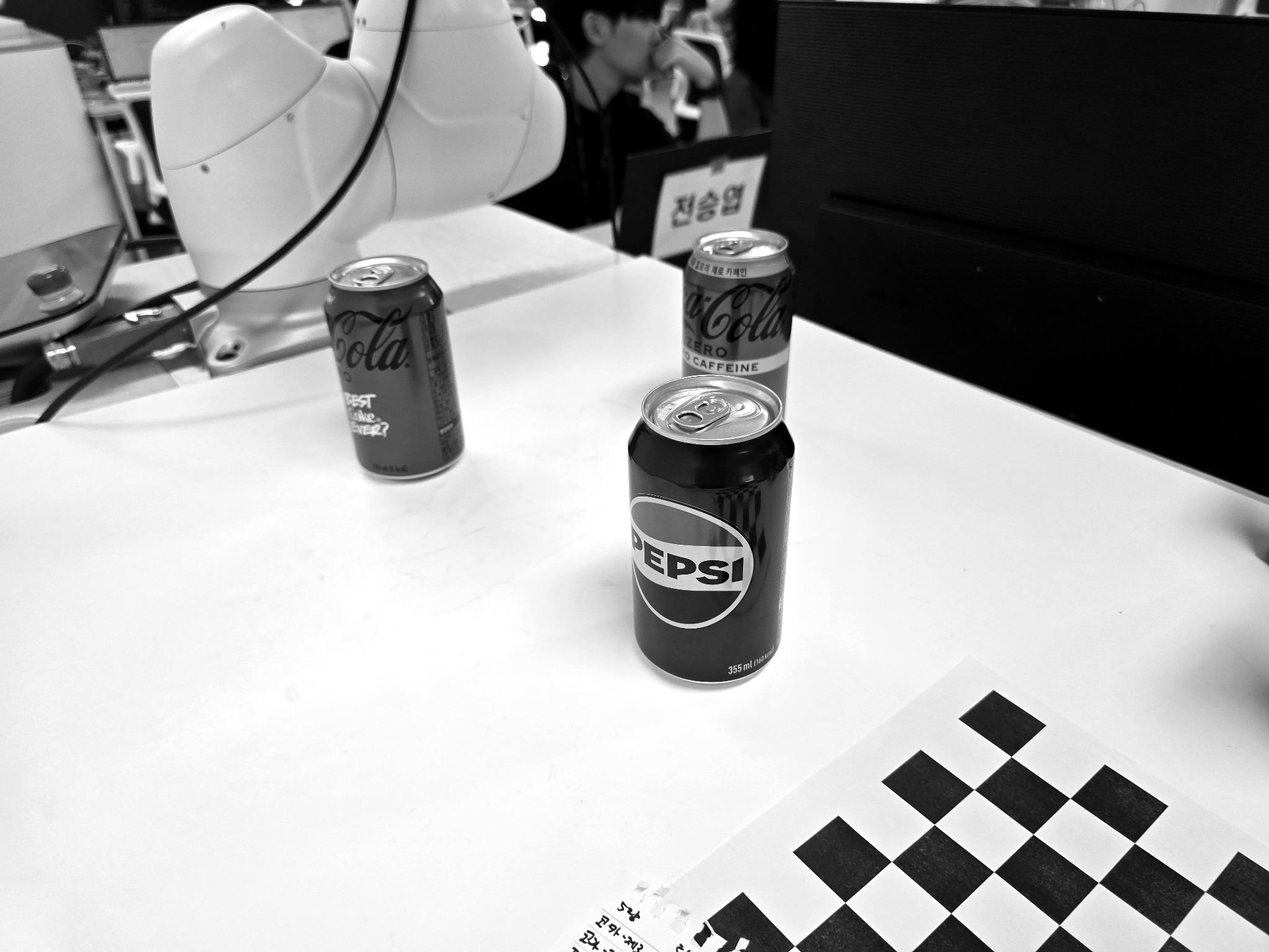can_coke_zero: (322, 256, 465, 485)
can_pepsi: (627, 369, 797, 675)
